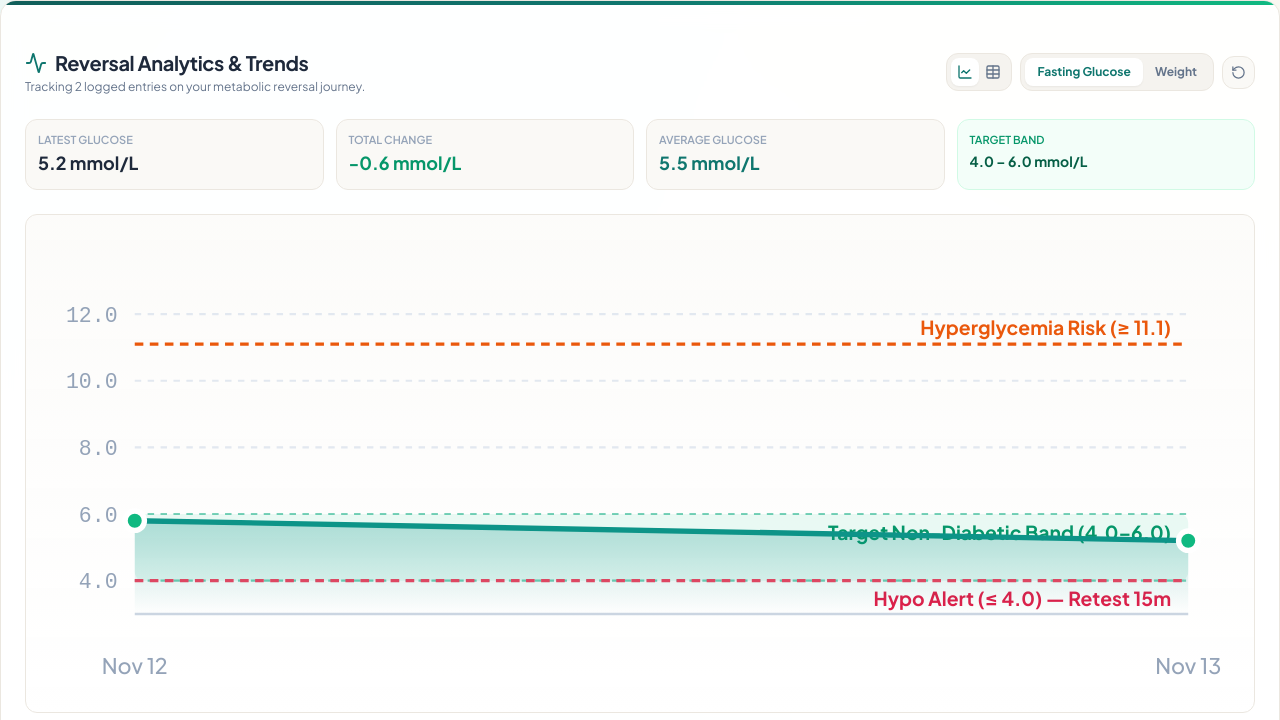
Scenario: AnalyticsCharts Component › switches metric to weight and shows weight data
The width and height of the screenshot is (1280, 720).
Expected: the text "5.2 mmol/L" is shown, 38,150 -> 138,174
Click the button "Weight": click(1176, 72) 1143,58 -> 1209,86
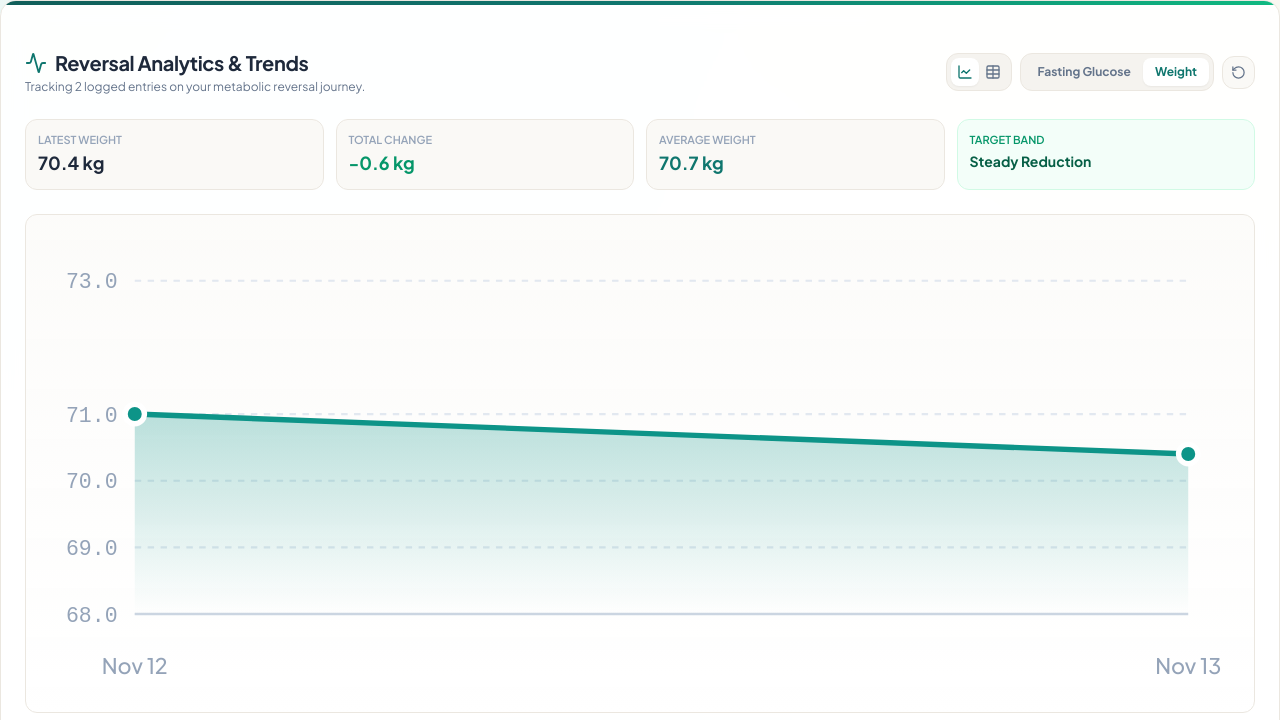
Now the text "70.4 kg" is shown, box 38,150 -> 105,174
